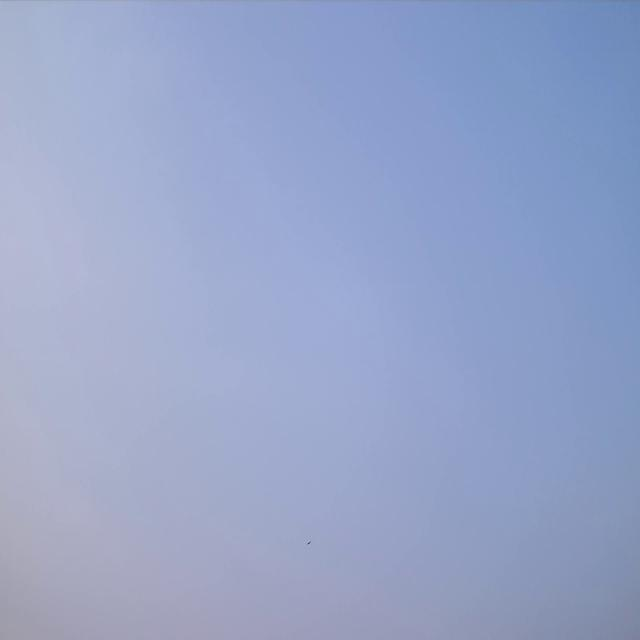UAV: (306, 540, 312, 546)
